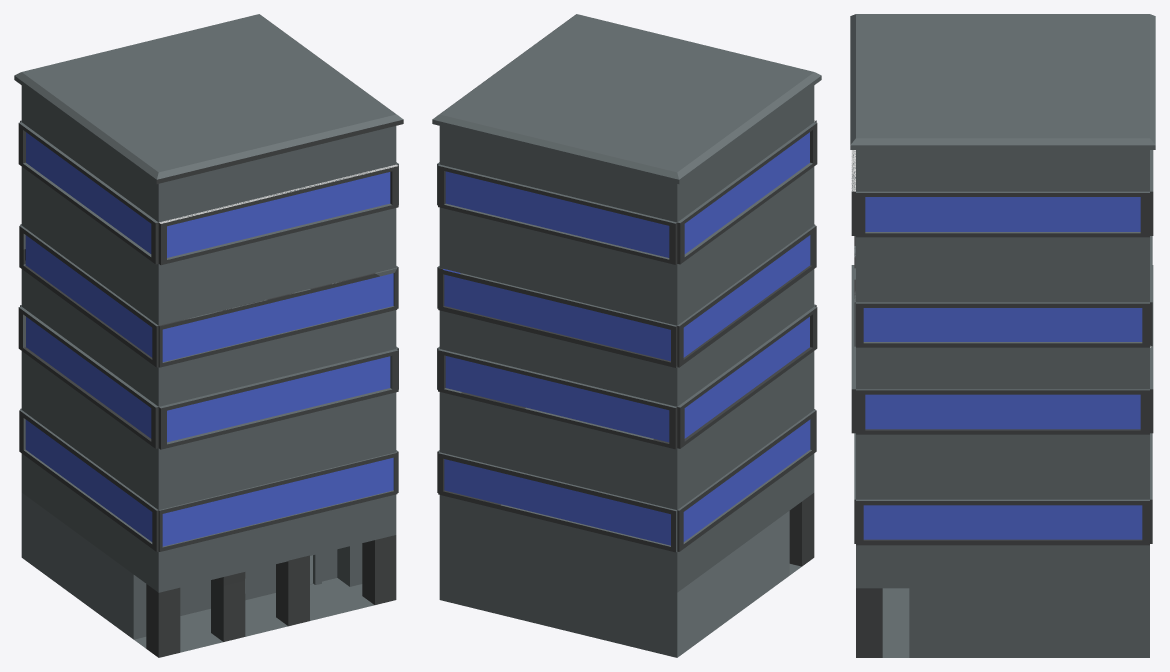
3 views of the same model, side by side, from view 1: azimuth 30°, elevation 25°; view 2: azimuth 150°, elevation 25°; view 3: azimuth 270°, elevation 25° (orthographic). The views are drawn at different scales.
Visible parts, largest first — view 1: Cube; view 2: Cube; view 3: Cube.
Part boxes in pixels (x1,y1,x2,y2): Cube: (14, 14, 403, 657); Cube: (432, 14, 821, 657); Cube: (850, 14, 1155, 657).
Size of the model in its own units: 889 by 1671 by 889.
